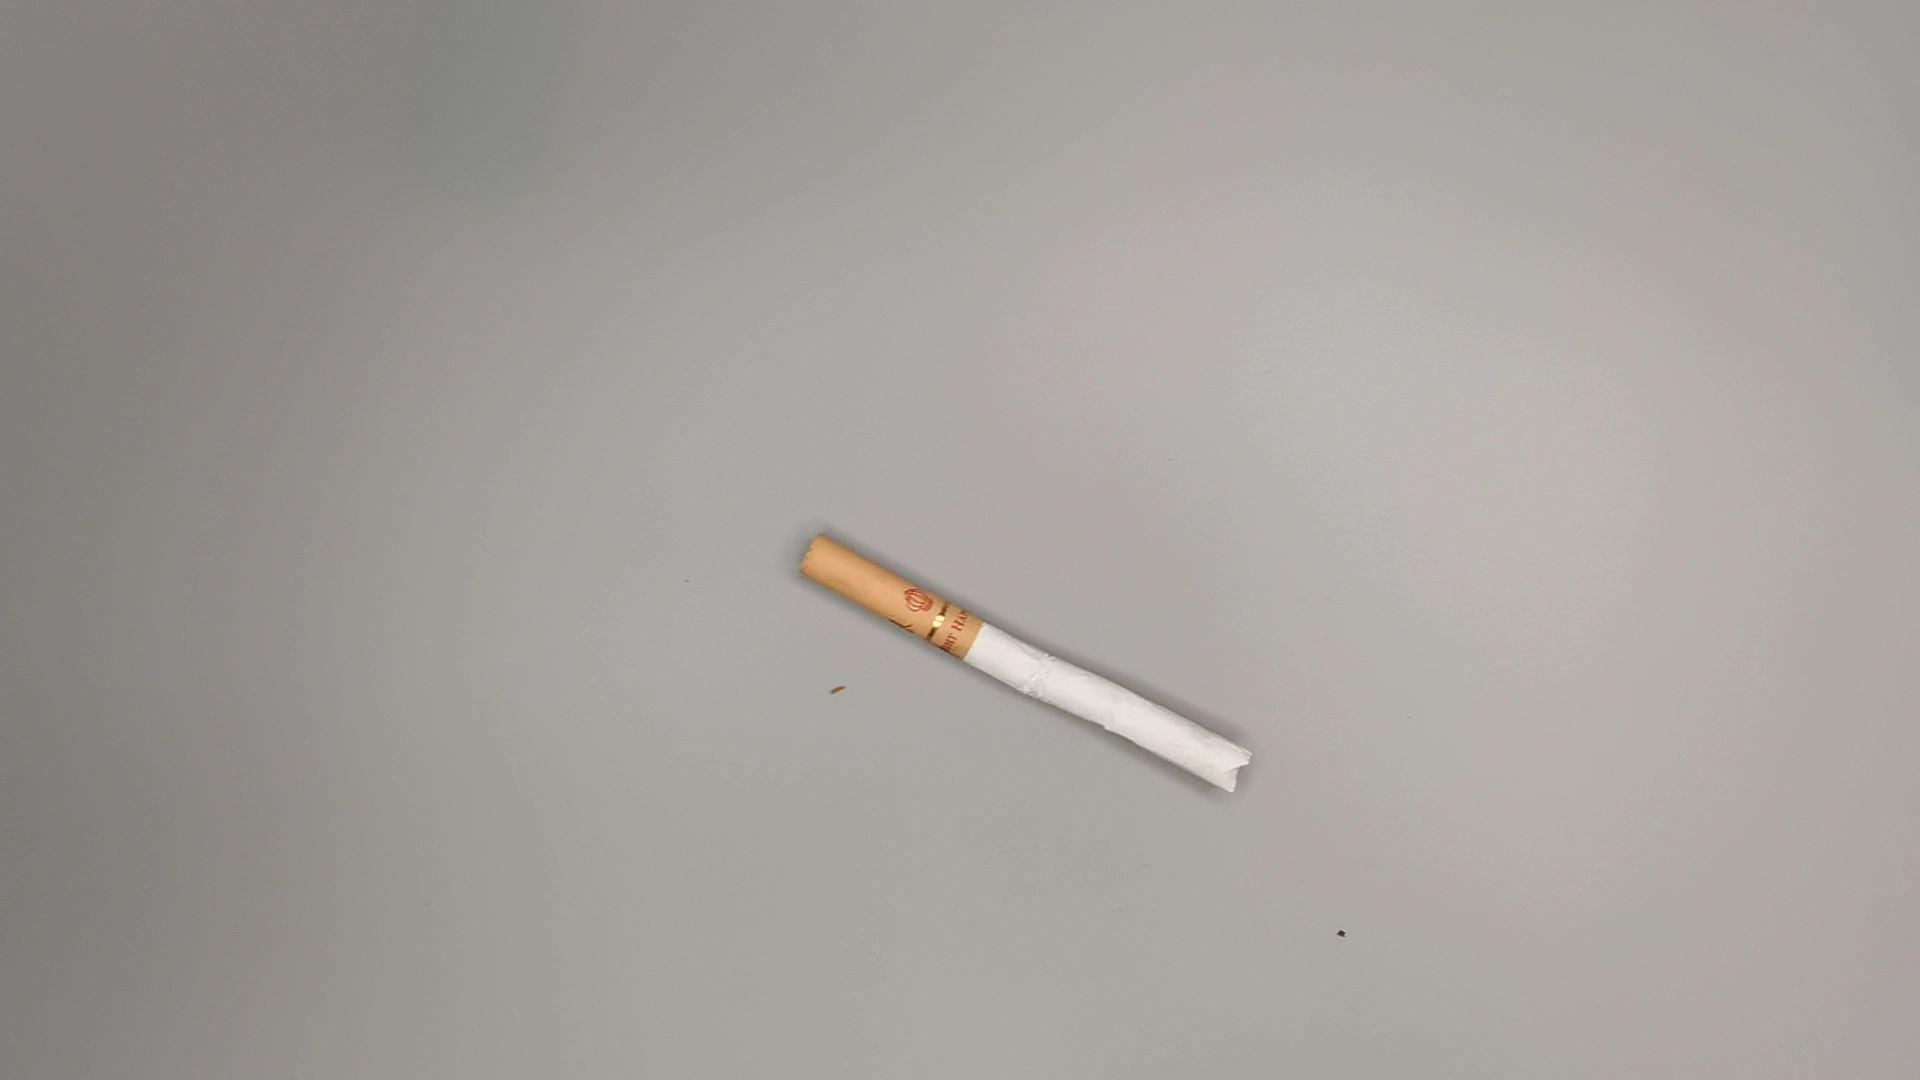cigarette: (786, 531, 1265, 802)
